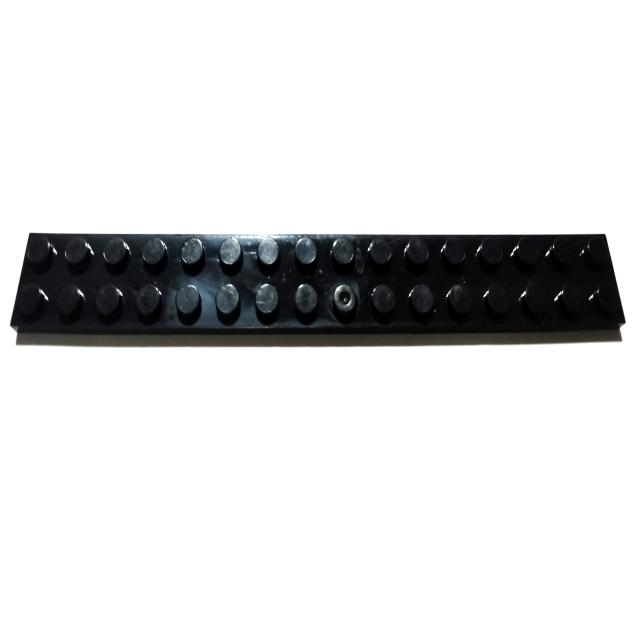Black_Large: (10, 229, 627, 335)
